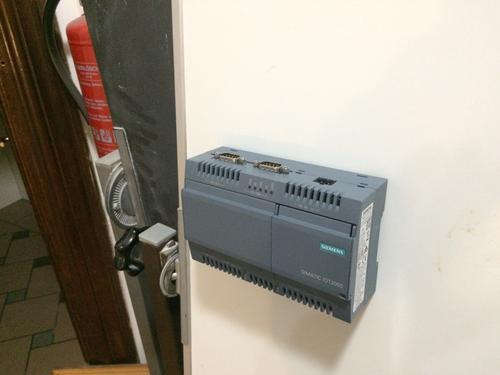iot2000: (180, 146, 389, 325)
